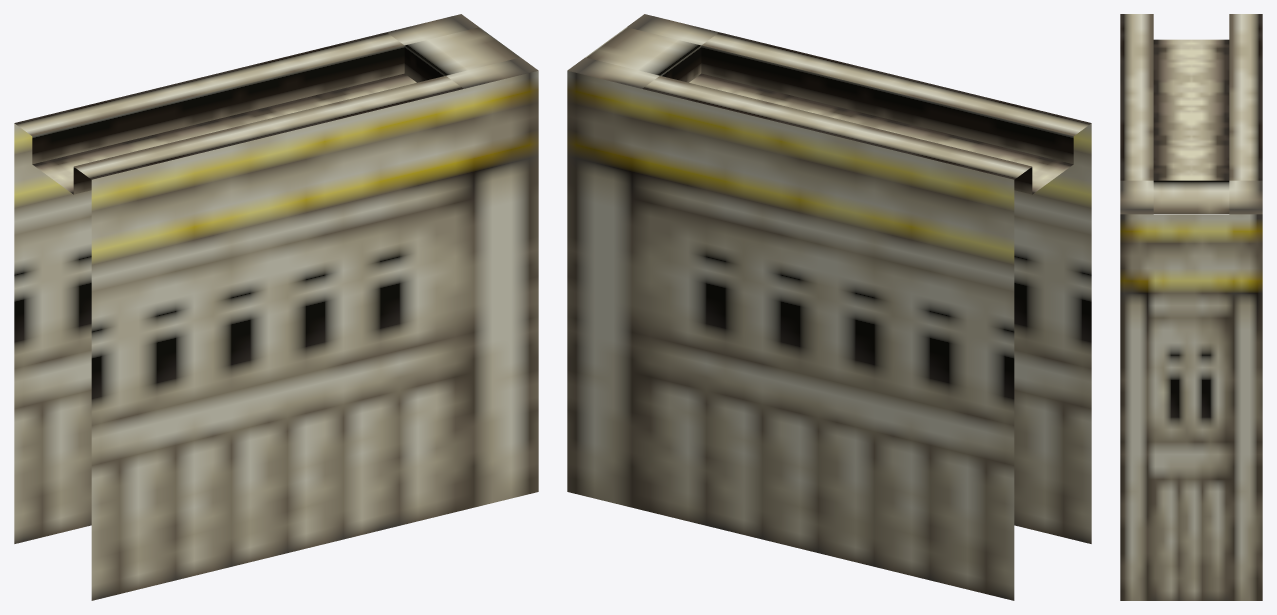
File: Poly_World_Map_Wall_01_Right_End.obj
3 renders of one model, left to right at view 1: azimuth 30°, elevation 25°; view 2: azimuth 150°, elevation 25°; view 3: azimuth 270°, elevation 25°, orthographic. The views are drawn at different scales.
Visible parts, largest first — view 1: Grid.001; view 2: Grid.001; view 3: Grid.001.
Part boxes in pixels (box(x1,y1,x2,y2)): Grid.001: box(14, 14, 538, 600); Grid.001: box(567, 14, 1091, 600); Grid.001: box(1120, 14, 1262, 600).
Bounding box in the file's own units: 1 × 0.9 × 0.3.
Materials: 1 (1 with a texture image).
